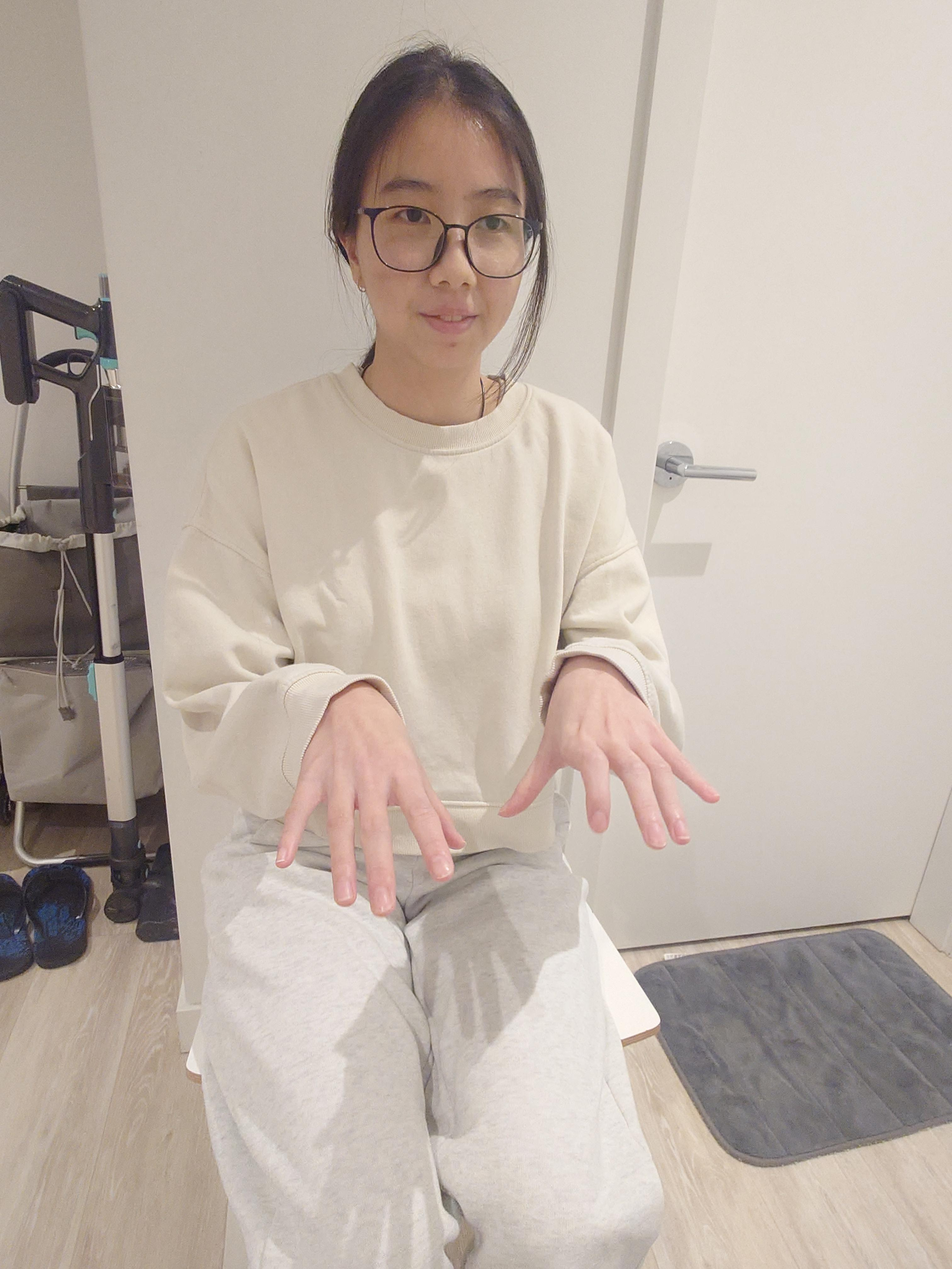GoodPosture: (157, 44, 720, 1269)
